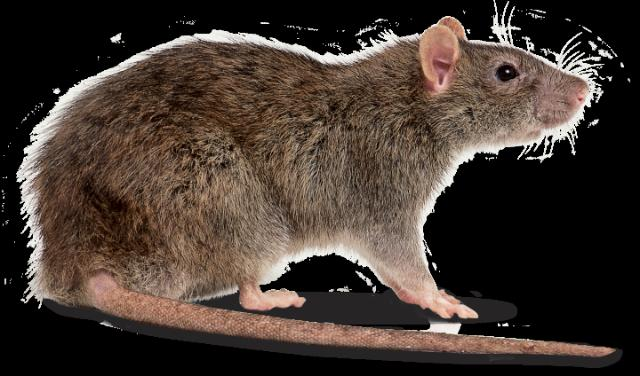rat: (19, 0, 628, 376)
